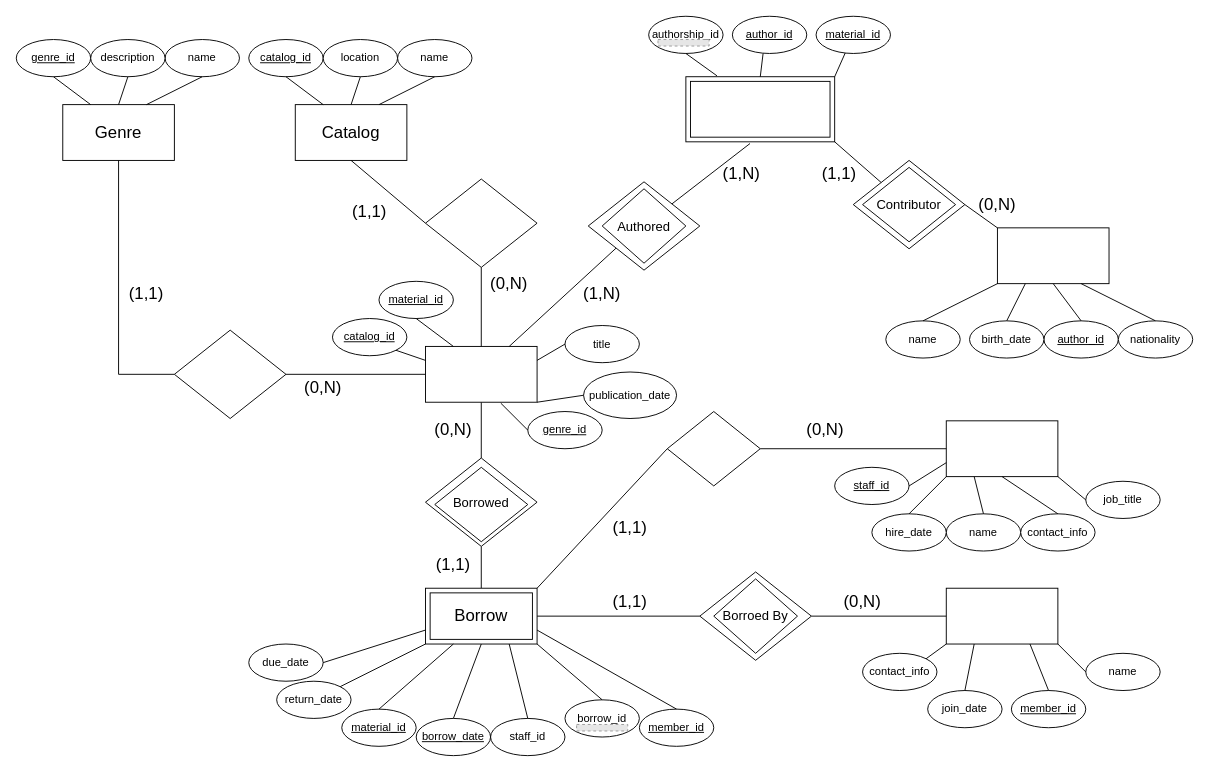
The diagram is 1209 pixels wide and 772 high, and some of its shapes have lost their labels. Grey dashed boxes stand in for pictures. Here are the shapes that lost their labels. From the top down, the centre of each, then its label:
(760,108): Authorship
(481,222): Cataloged In
(1052,255): Author
(229,373): Categorized As
(481,373): Material
(713,448): Processed
(1001,448): Staff
(1001,615): Member
